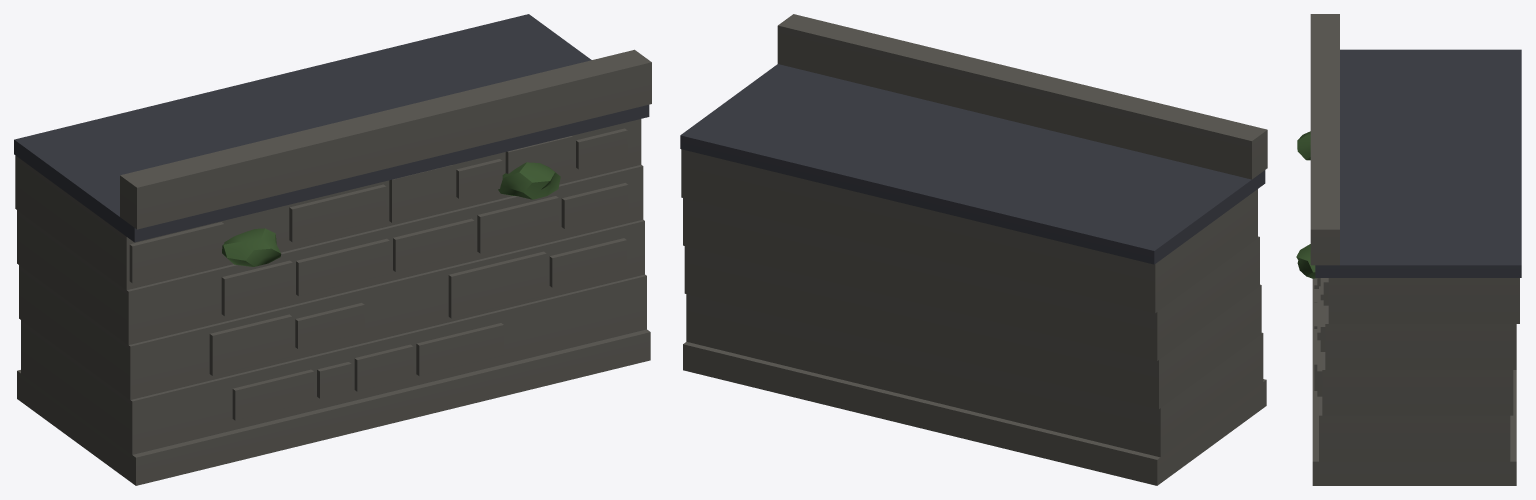
File: town_terrace_wall.glb
3 views of the same model, side by side, from view 1: azimuth 30°, elevation 25°; view 2: azimuth 150°, elevation 25°; view 3: azimuth 270°, elevation 25° (orthographic). The views are drawn at different scales.
Parts seen in each view (by area): view 1: prop; view 2: prop; view 3: prop.
Boxes of the visible parts, left/top/right/bottom form: prop: left=14, top=14, right=651, bottom=485; prop: left=680, top=14, right=1267, bottom=485; prop: left=1296, top=14, right=1521, bottom=485.
Bounding box in the file's own units: 8 × 4.44 × 3.54.
